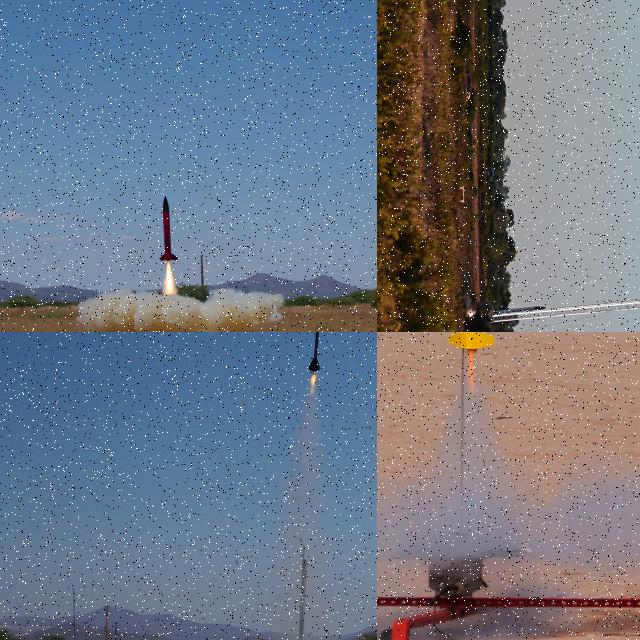Rocket: (159, 195, 179, 262), (309, 332, 329, 373), (492, 306, 546, 315)
